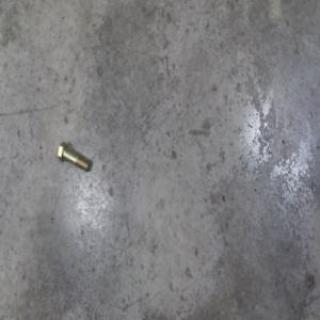Bolttrack_idkeyframe: (57, 139, 89, 173)
